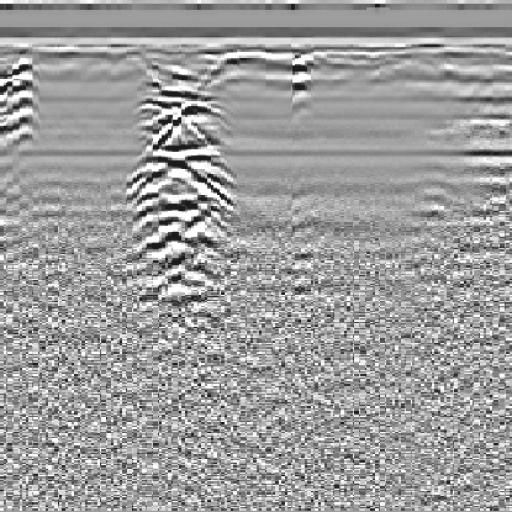metalic: (113, 62, 247, 364)
